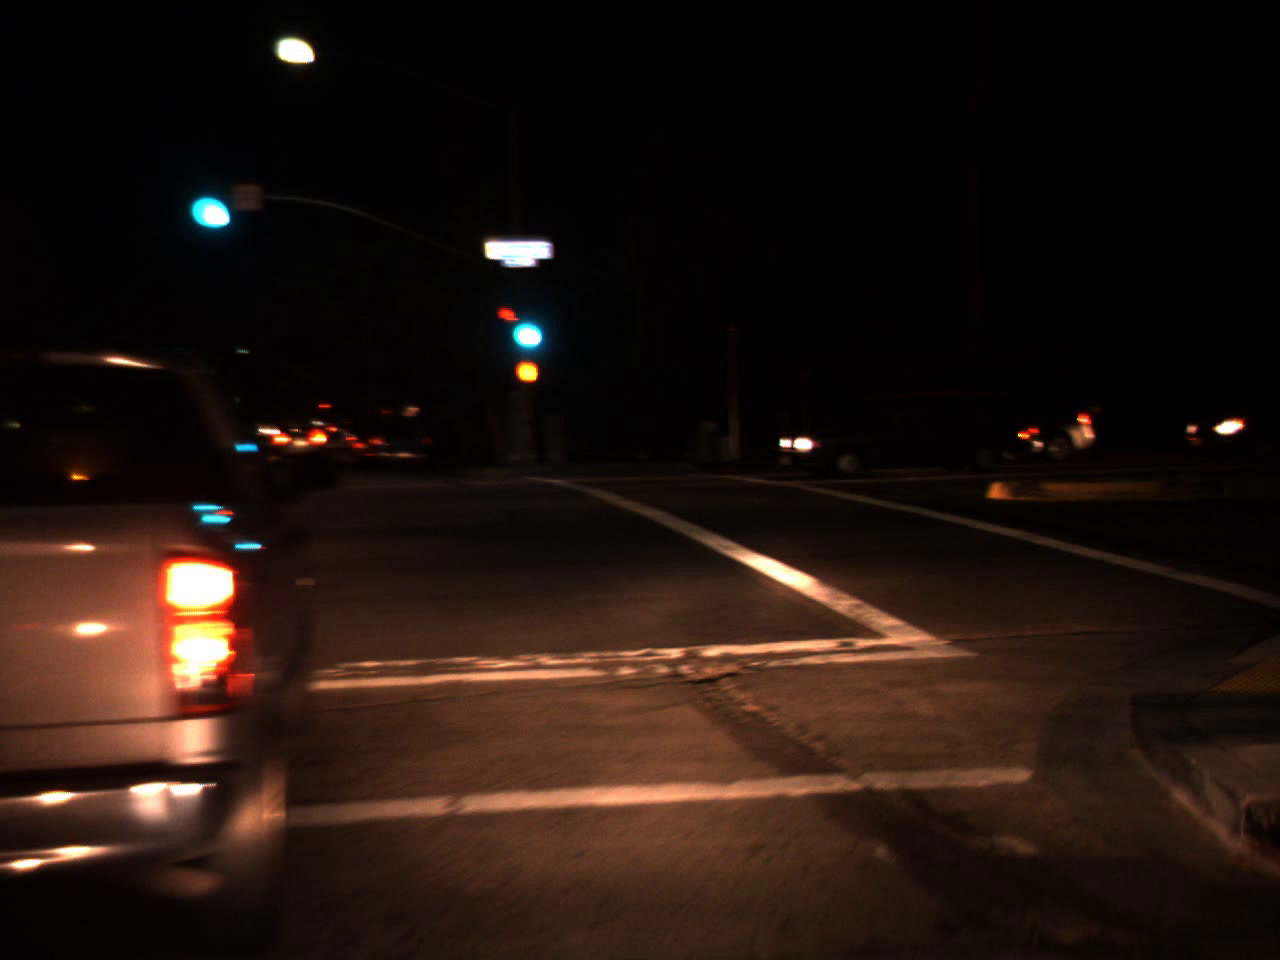go: (184, 163, 236, 241), (500, 289, 550, 358)
